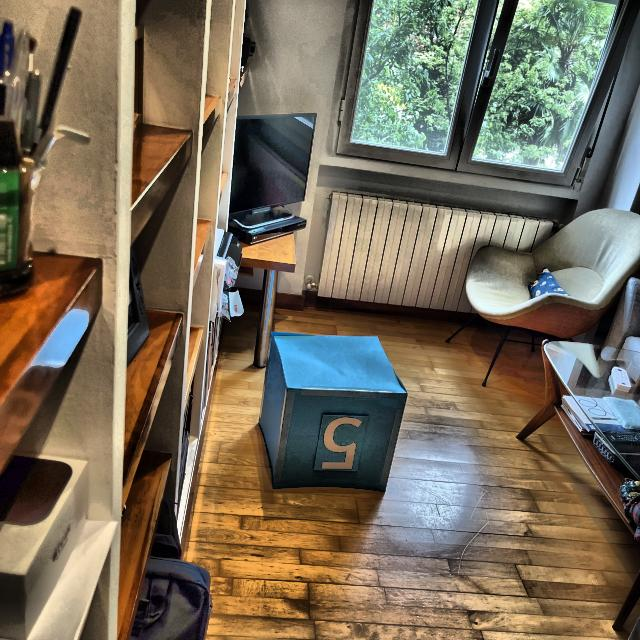blue box: (259, 332, 408, 496)
five: (319, 414, 362, 470)
